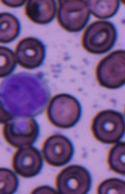L: (0, 72, 50, 117)
